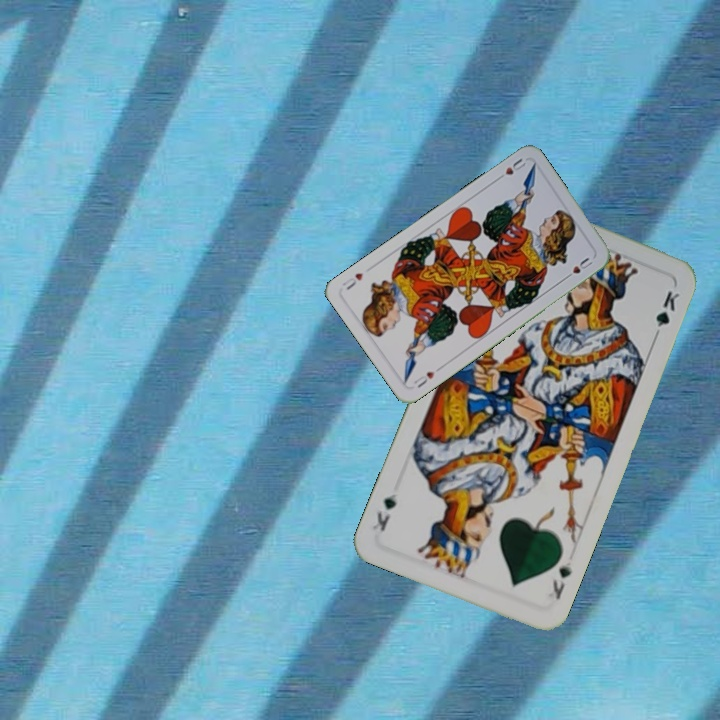GK: (548, 557, 574, 602)
HU: (492, 154, 529, 183), (410, 363, 444, 390)
